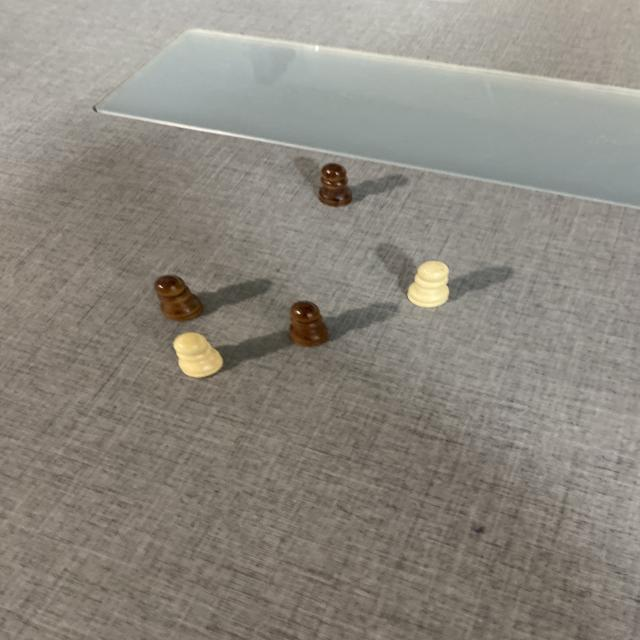Black-Pawn: (154, 274, 205, 324), (288, 300, 331, 348), (316, 162, 354, 206)
White-Pawn: (172, 331, 226, 379), (406, 260, 454, 308)
